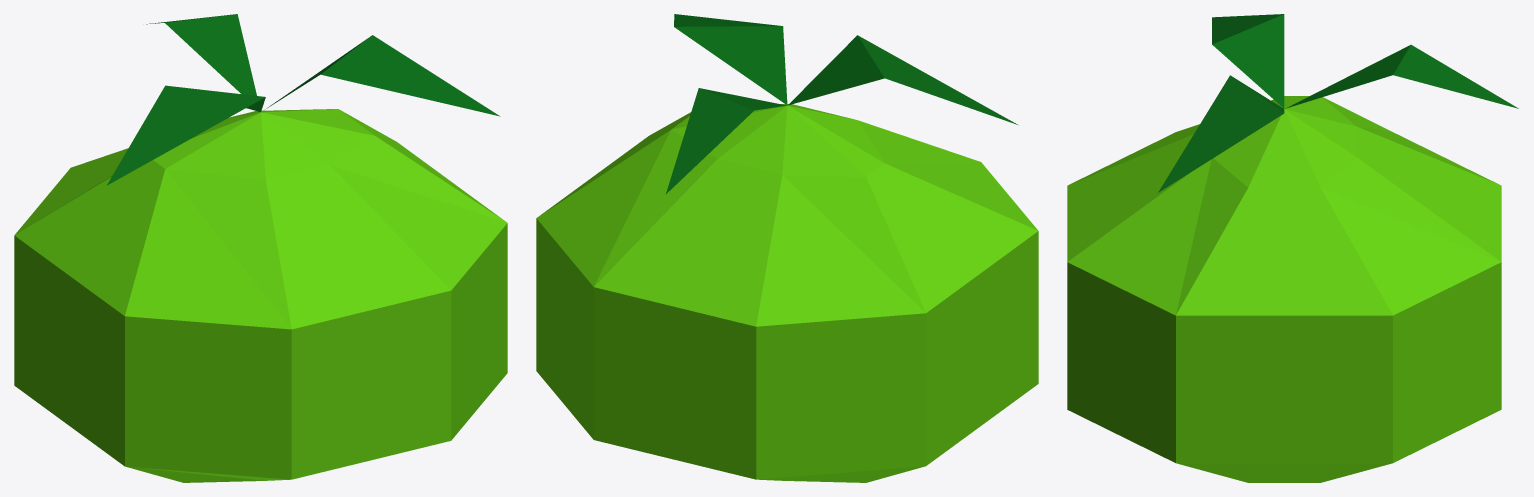
The model's file is inv_rotten_apples.obj.
3 views of the same model, side by side, from view 1: azimuth 30°, elevation 25°; view 2: azimuth 150°, elevation 25°; view 3: azimuth 270°, elevation 25° (orthographic). The views are drawn at different scales.
Bounding box in the file's own units: 0.1875 × 0.1797 × 0.1953.
